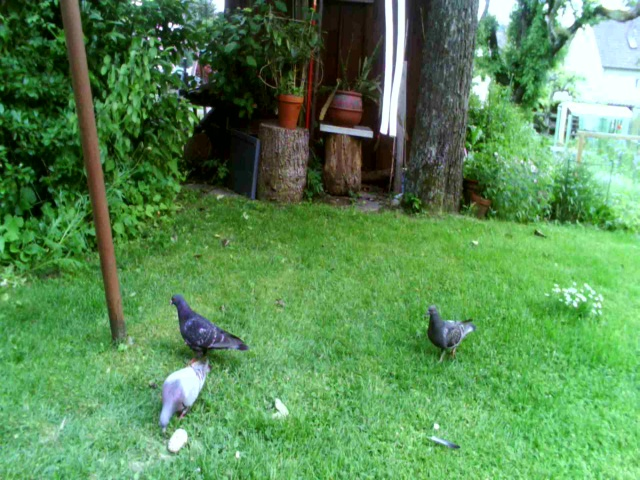Pigeon: (165, 292, 248, 359), (152, 362, 215, 438), (416, 297, 482, 366)
